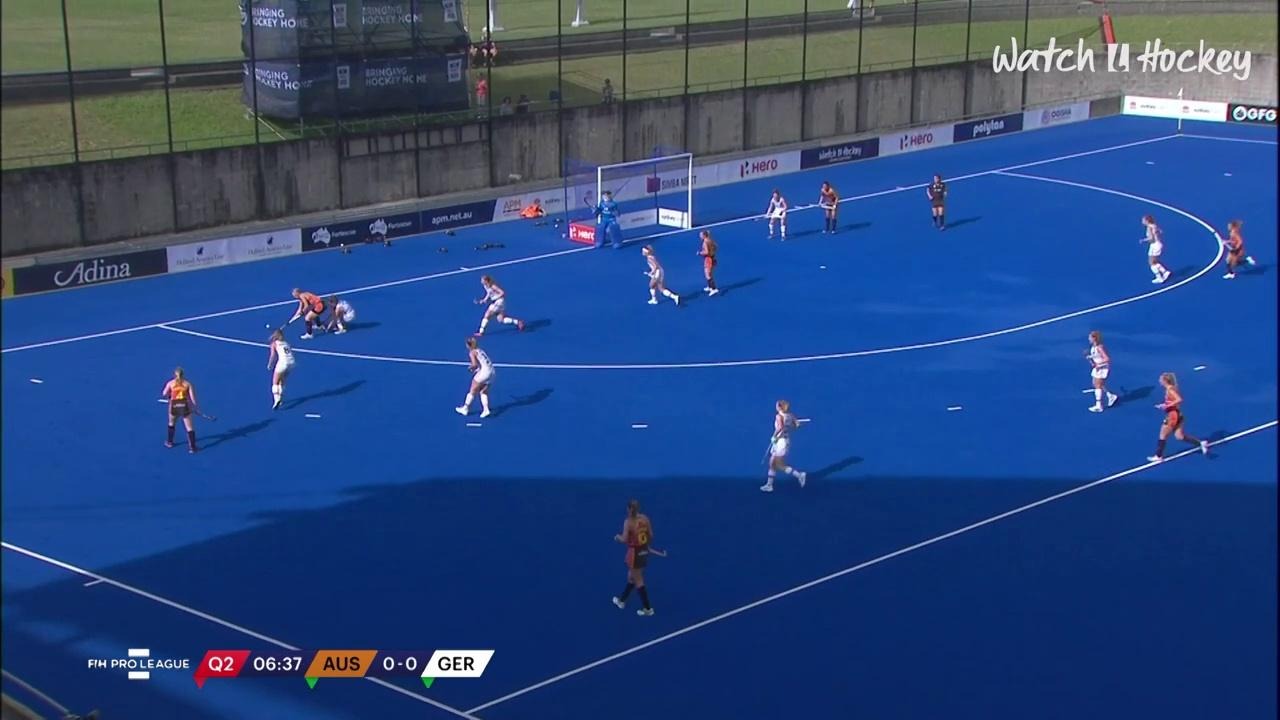ball: (259, 316, 273, 331)
